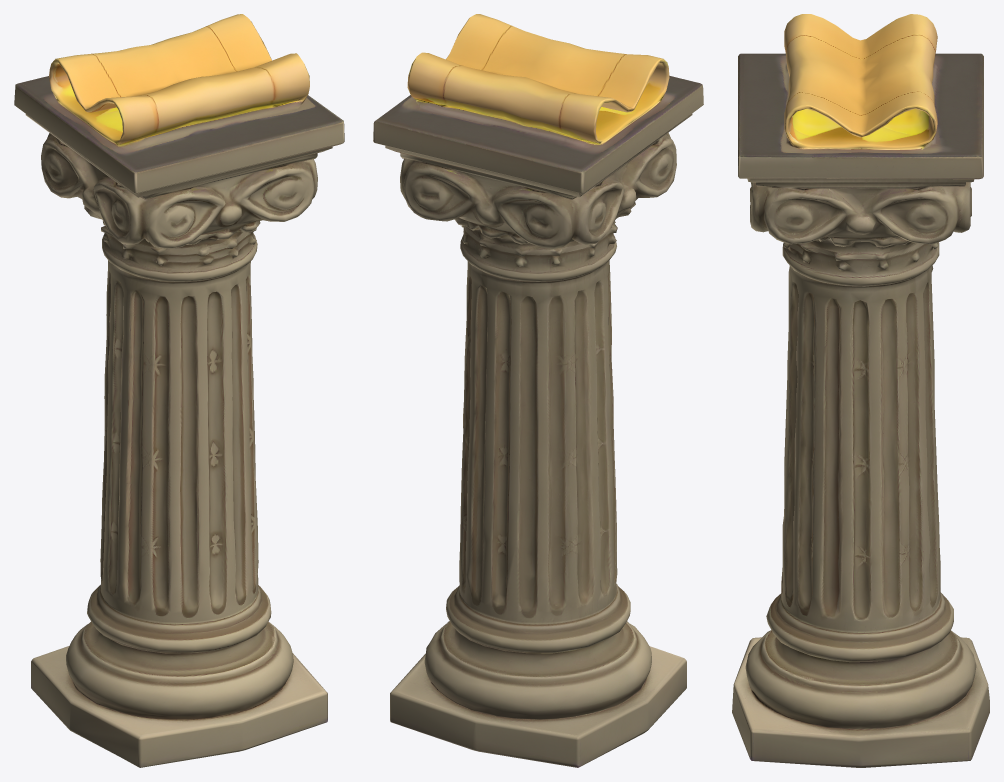
The model's file is board_codicil_pedestal.glb.
3 renders of one model, left to right at view 1: azimuth 30°, elevation 25°; view 2: azimuth 150°, elevation 25°; view 3: azimuth 270°, elevation 25°, orthographic.
Bounding box in the file's own units: 0.6771 × 1.9 × 0.6771.
Materials: 1 (1 with a texture image).
